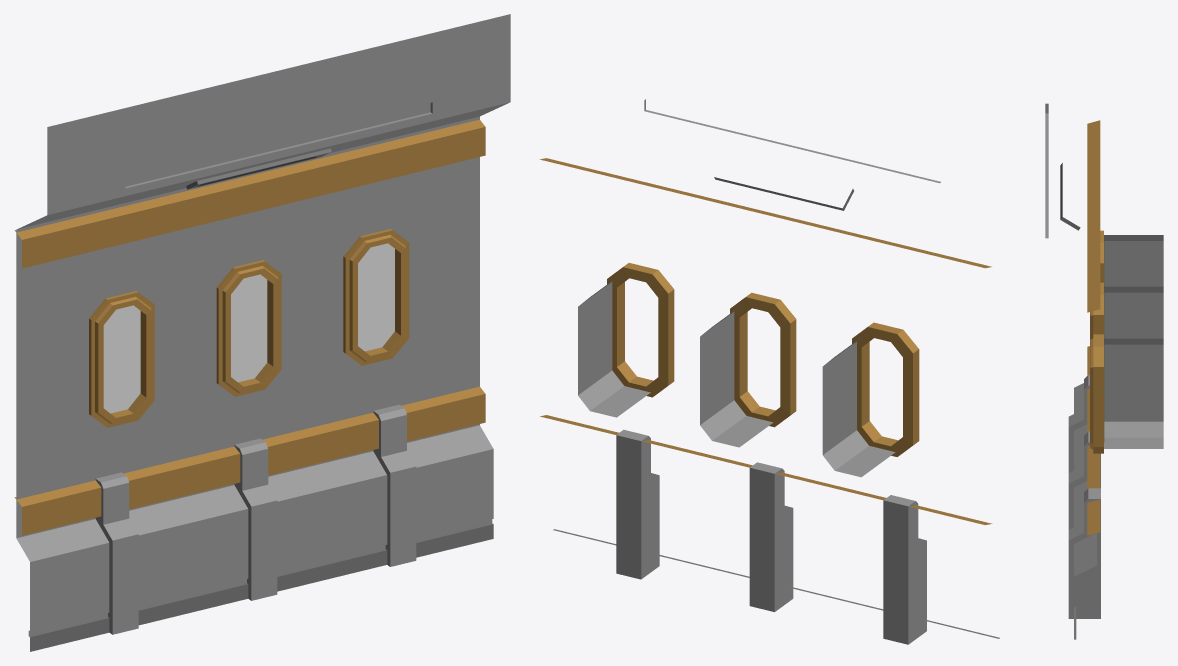
The model's file is quaternius-modular-sci-fi-three-windows-wall-side-a.glb.
3 views of the same model, side by side, from view 1: azimuth 30°, elevation 25°; view 2: azimuth 150°, elevation 25°; view 3: azimuth 270°, elevation 25° (orthographic). The views are drawn at different scales.
Parts seen in each view (by area): view 1: ThreeWindows_Wall_SideA; view 2: ThreeWindows_Wall_SideA; view 3: ThreeWindows_Wall_SideA.
Boxes of the visible parts, x1=… form: ThreeWindows_Wall_SideA: x1=14, y1=14, x2=510, y2=651; ThreeWindows_Wall_SideA: x1=539, y1=99, x2=999, y2=644; ThreeWindows_Wall_SideA: x1=1045, y1=103, x2=1163, y2=639.
Bounding box in the file's own units: 4 × 4.43 × 1.06.
